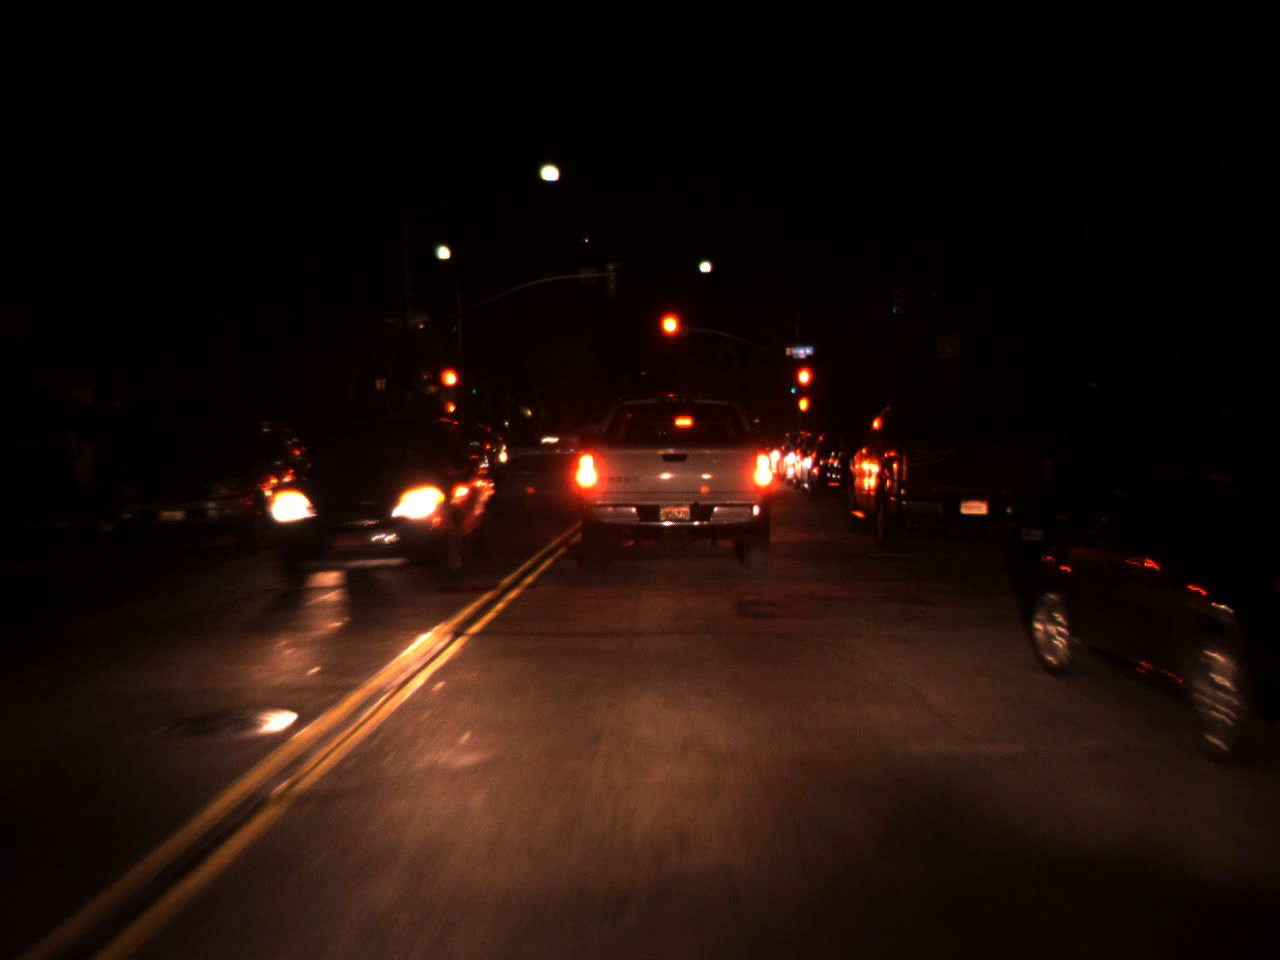stop: (656, 308, 684, 364), (794, 363, 815, 411), (438, 366, 462, 409)
